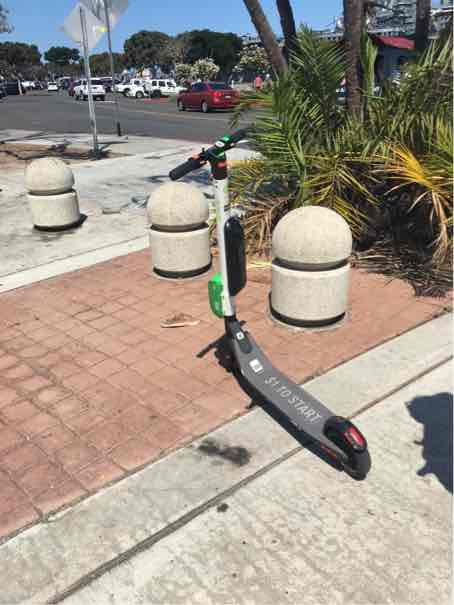scooter: (157, 121, 377, 481)
